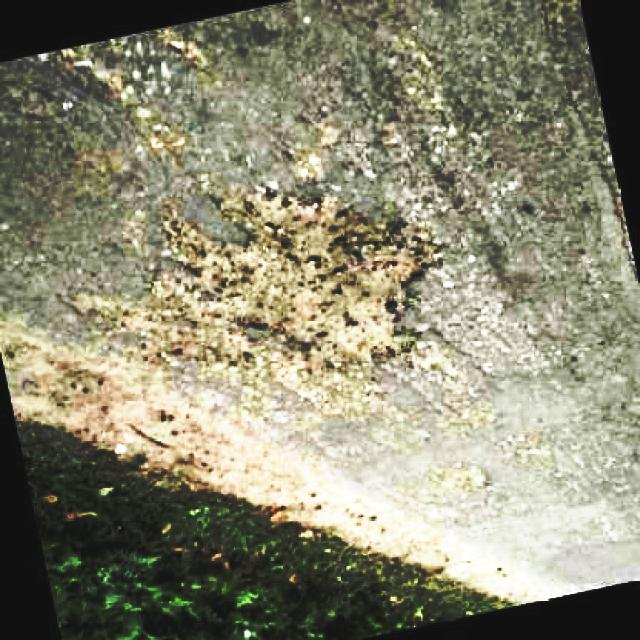pothole: (154, 186, 432, 369)
